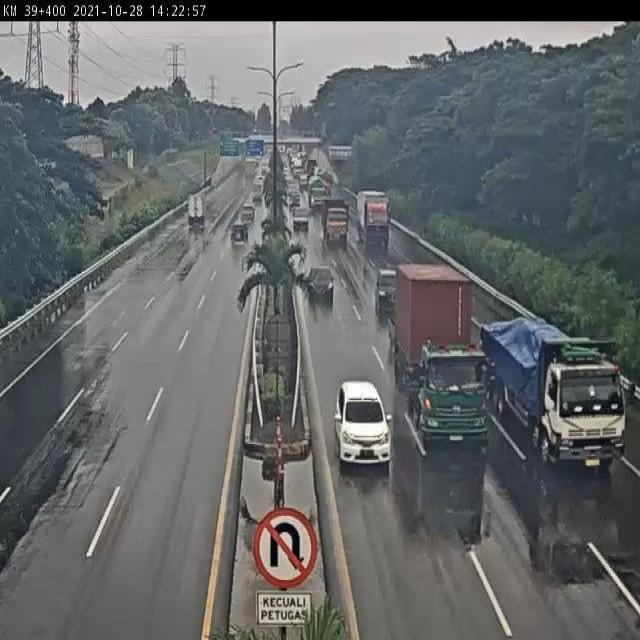KAMYONET: (322, 196, 353, 244)
TIR: (484, 316, 628, 468), (395, 260, 489, 447), (356, 191, 387, 244)
